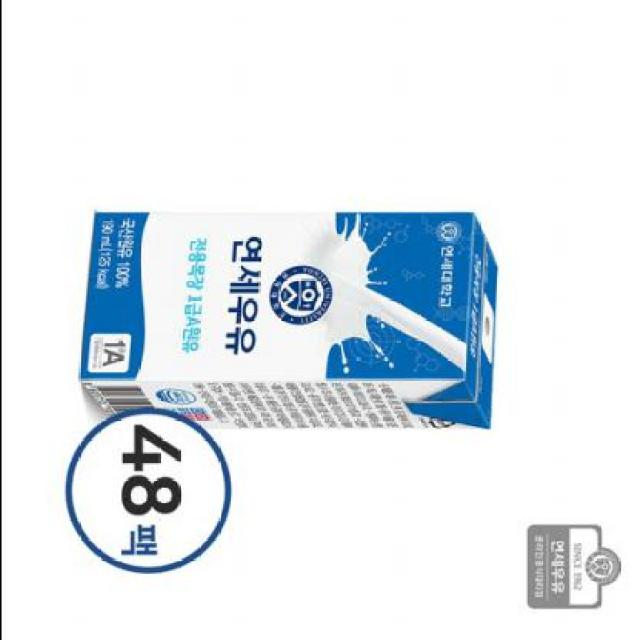tetra: (54, 187, 526, 450)
